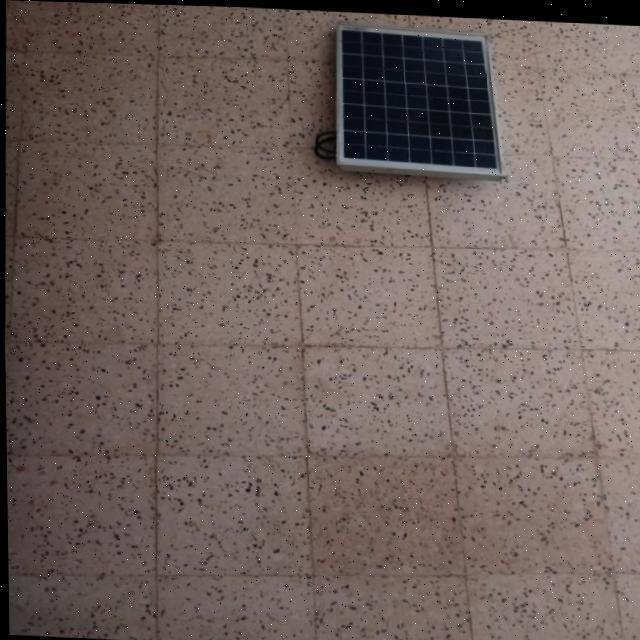Normal Solar Panel: (332, 17, 506, 172)
